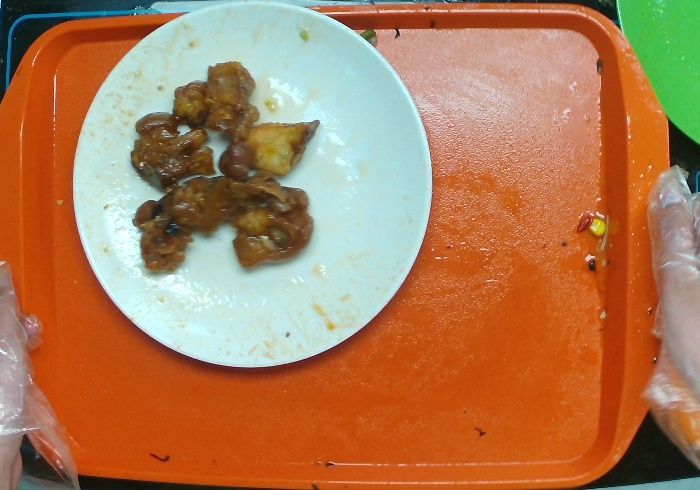HZYJPL-Bai_Se_Yuan_Pan: (58, 1, 448, 392)
